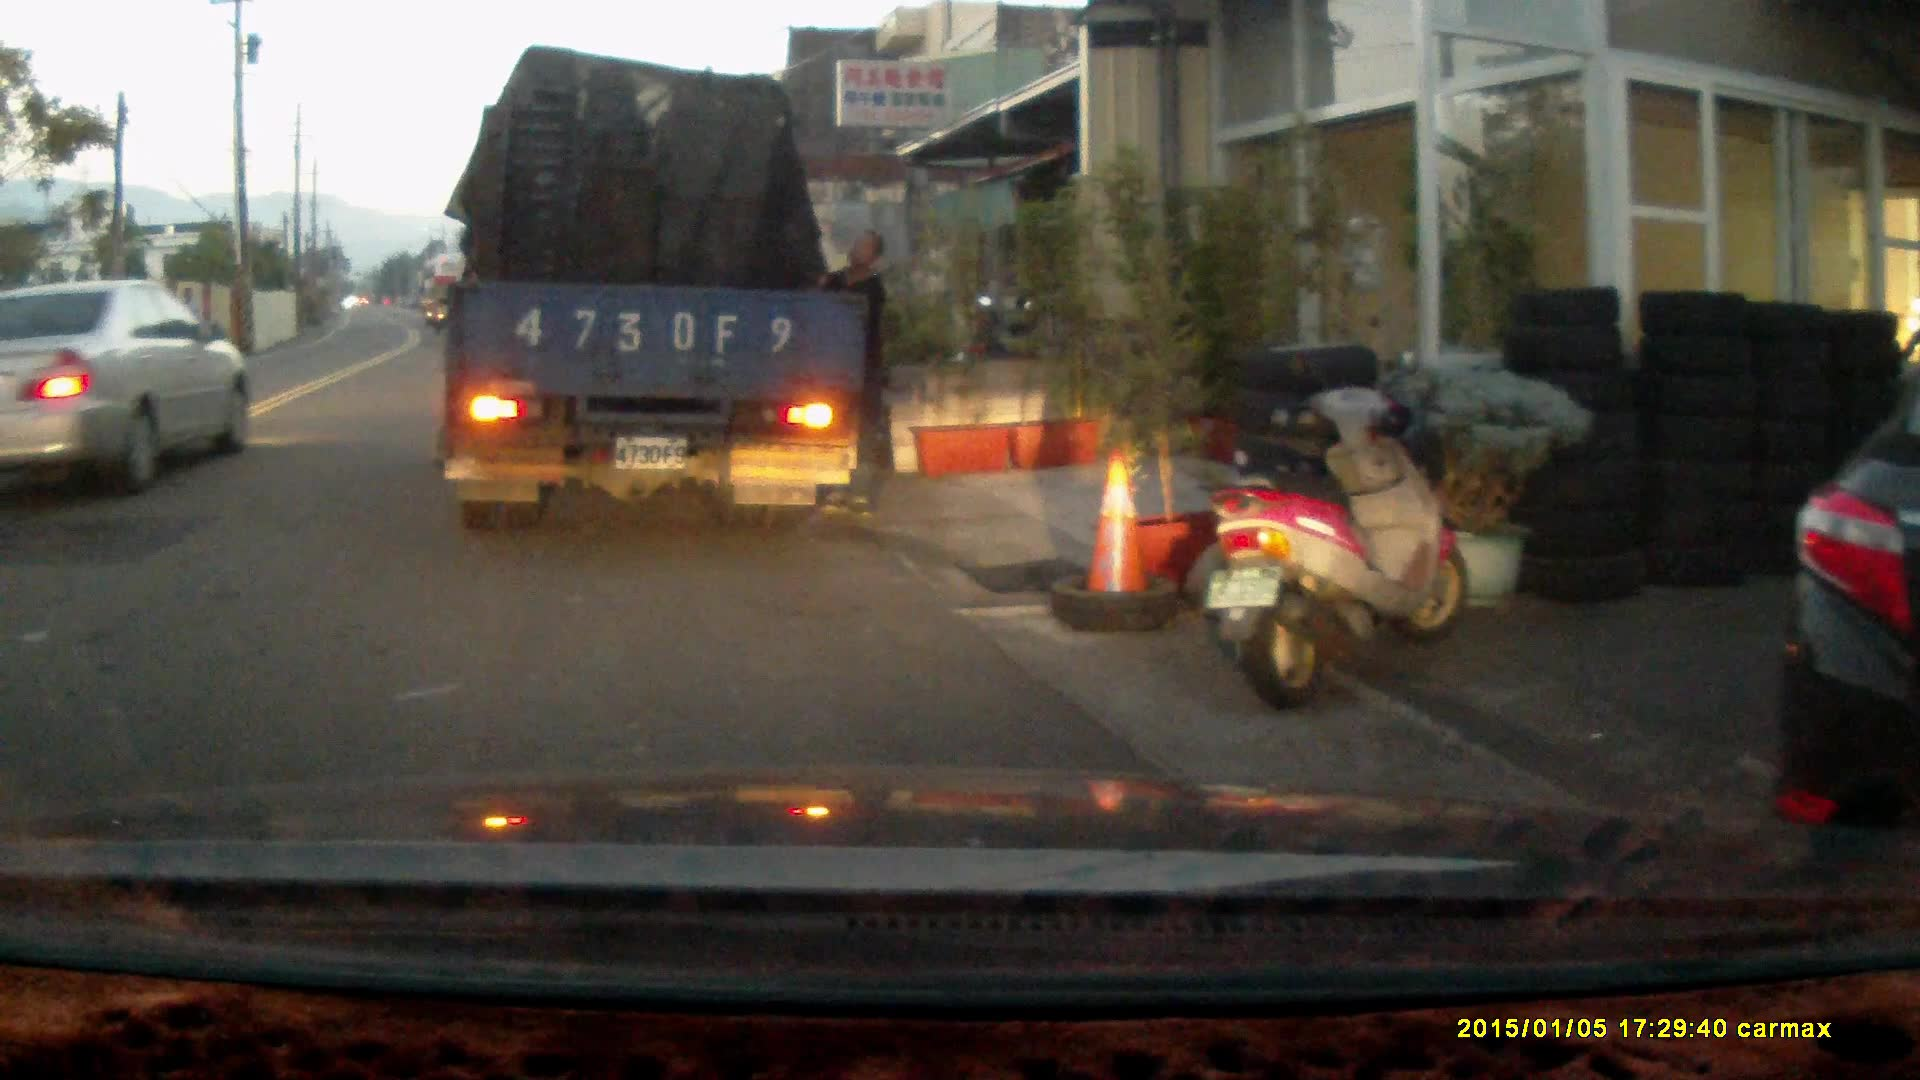pedestrian: (822, 231, 895, 524)
vehicle: (445, 53, 876, 524), (1761, 232, 1917, 865), (1, 276, 255, 499), (424, 282, 468, 337)
